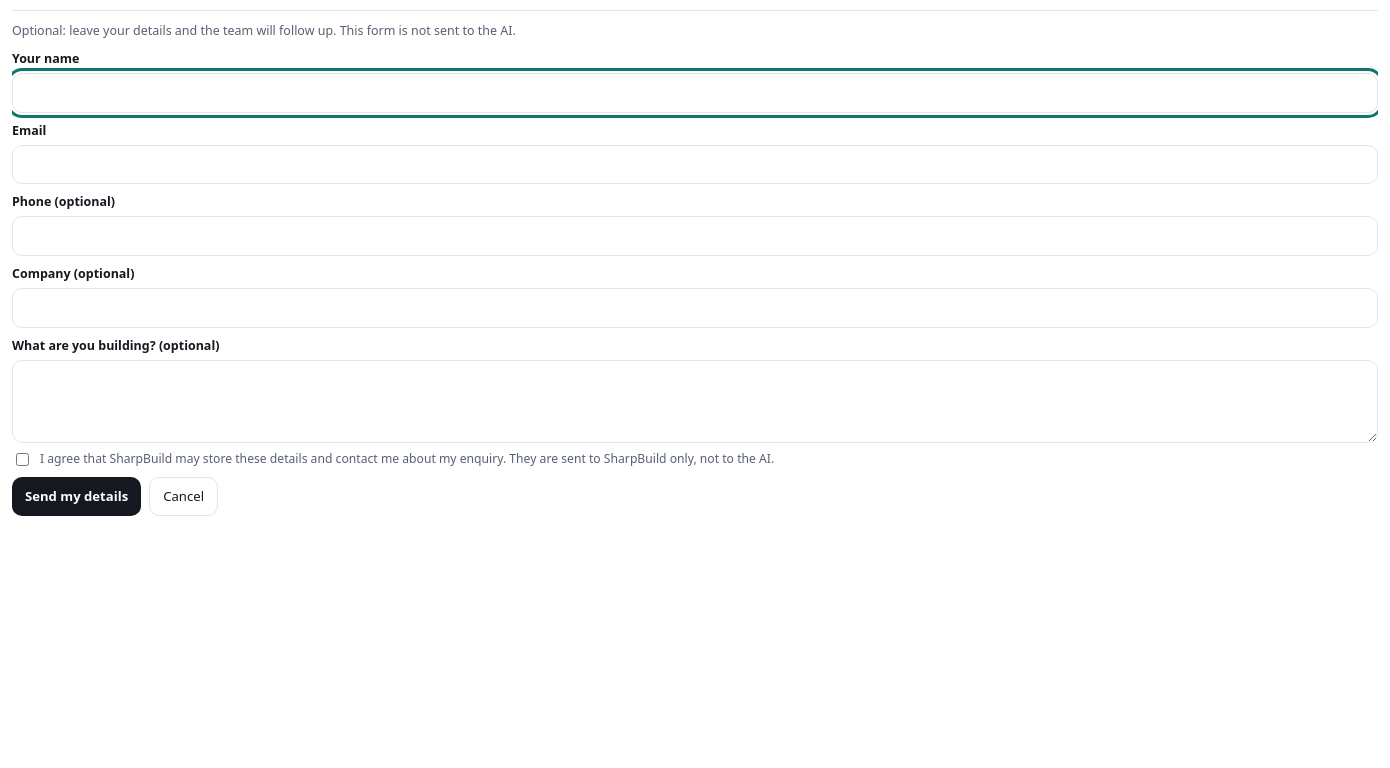
Test case: LeadForm › rejects an email without consent even when the rest is valid
Type "Ali Khan" into the field labelled "Your name" at (695, 93), box [12,73,1378,113]
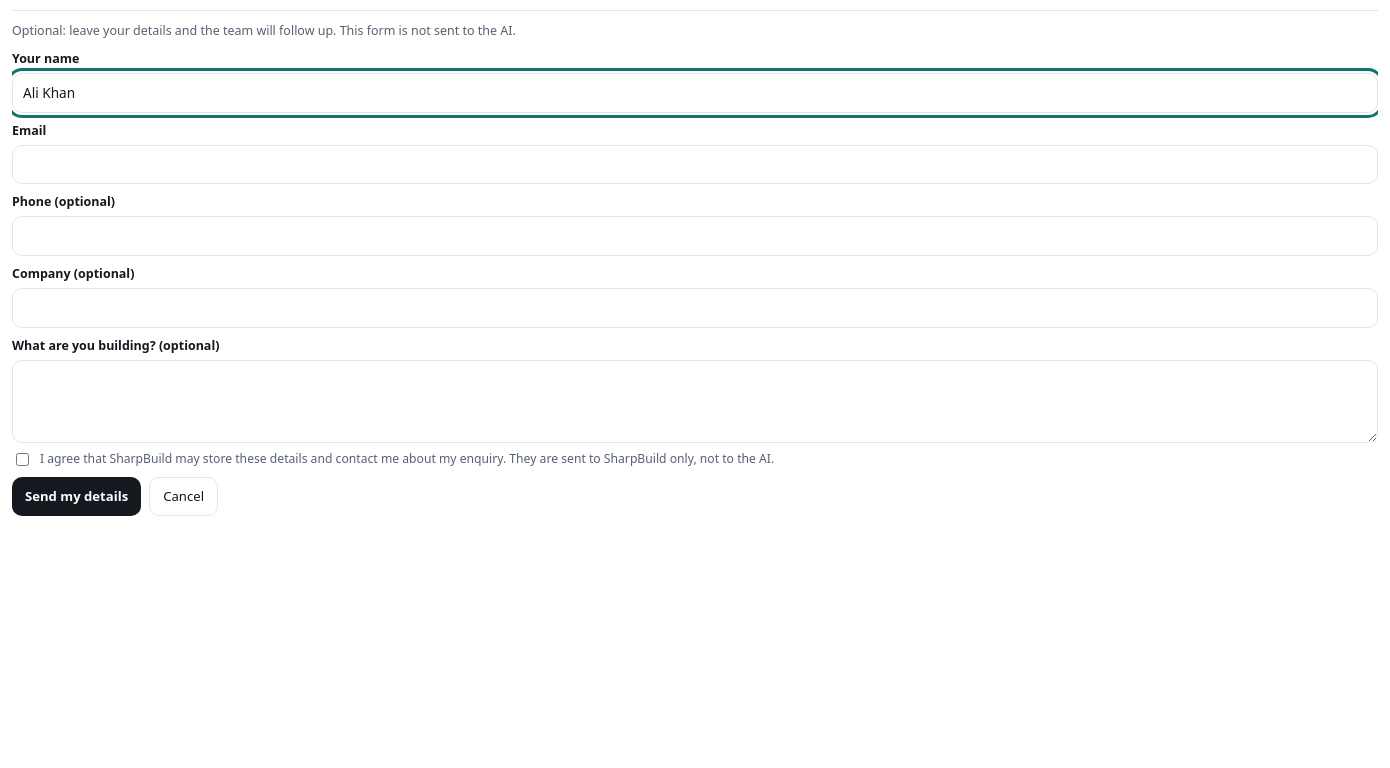
Type "ali@example.com" into the field labelled "Email" at (695, 165), box [12,145,1378,184]
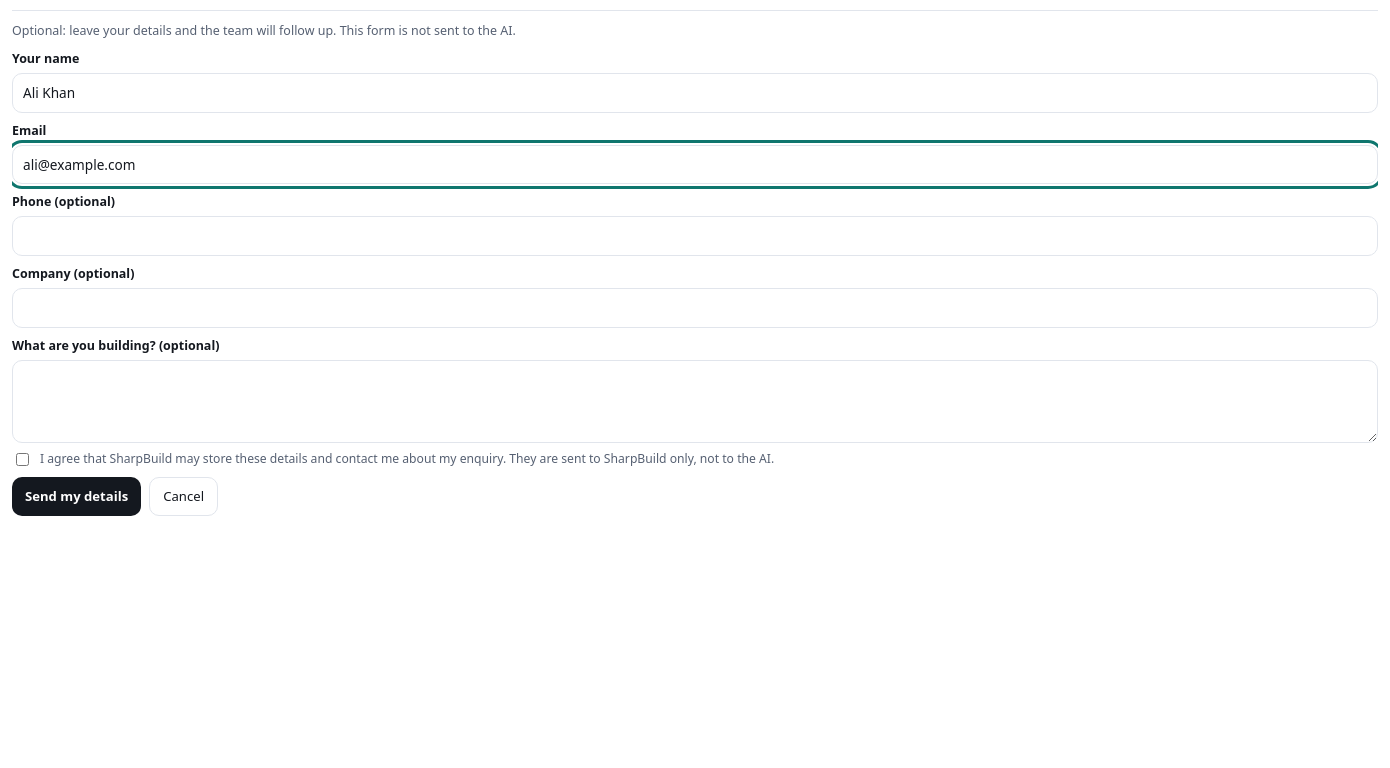
Click the button "Send my details" at (77, 497), box [12,477,141,516]
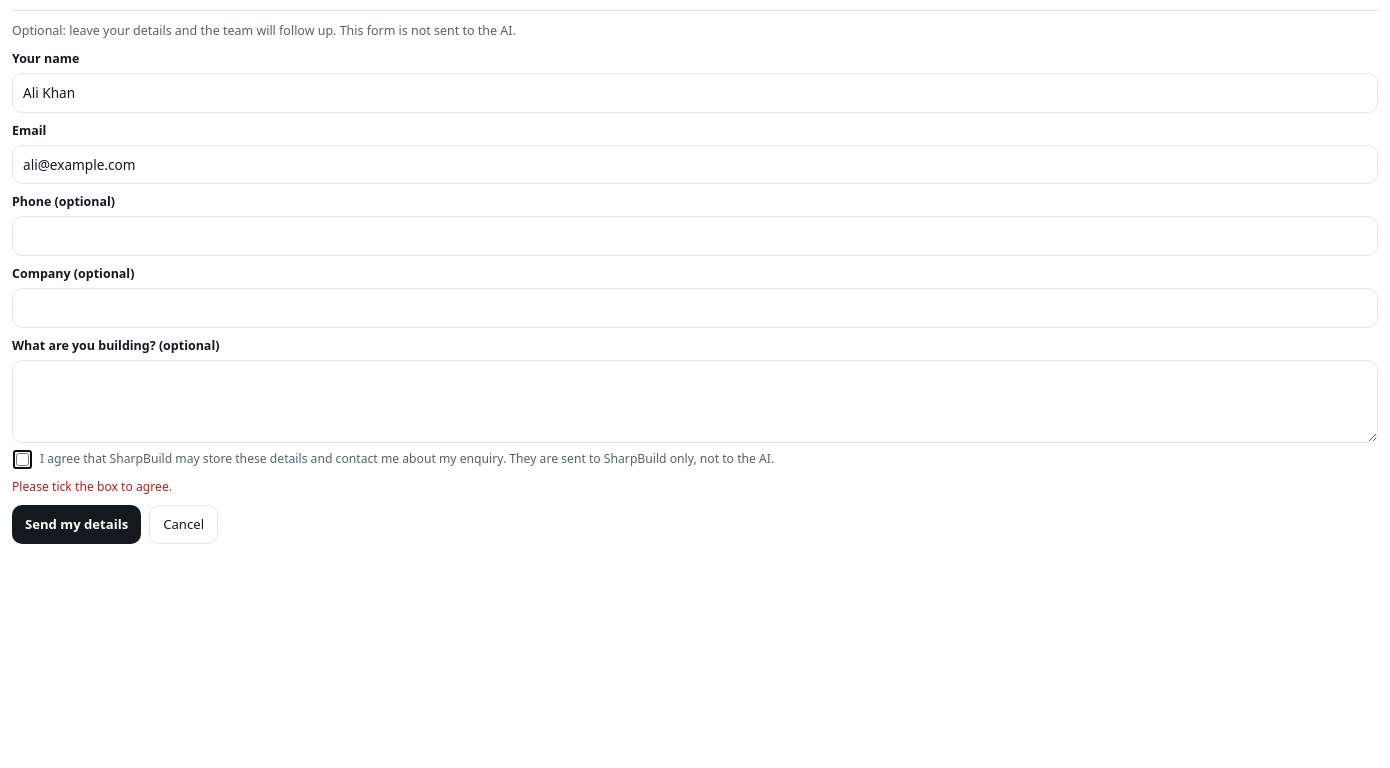
Expected: the text "Please tick the box to agree." is shown, [12,478,172,495]
